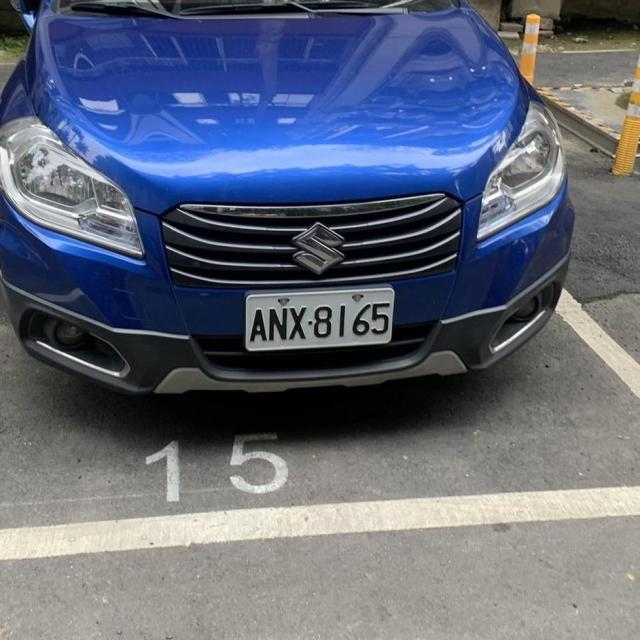W: (234, 283, 400, 358)
